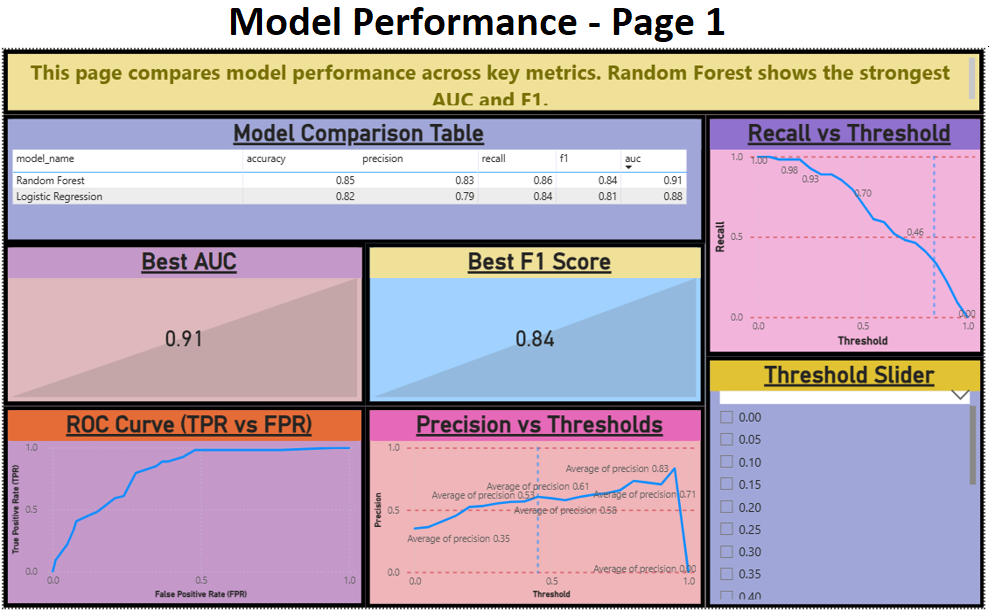

What the dashboard file says about the page in this screenshot:
{"tool":"powerbi","page":{"name":"Model Performance","canvas":[1280,720],"ordinal":0},"visuals":[{"type":"tableEx","title":"Model Comparison Table","fields":{"Values":["metrics_diabetes.model_name","metrics_diabetes.accuracy","metrics_diabetes.precision","metrics_diabetes.recall","metrics_diabetes.f1","metrics_diabetes.auc"]},"box":[0,83.7,916.6,166],"z":0},{"type":"kpi","title":"Best AUC","fields":{"Indicator":["Max(metrics_diabetes.auc)"],"TrendLine":["metrics_diabetes.auc"]},"box":[0,249.7,473.4,209.9],"z":1000},{"type":"kpi","title":"Best F1 Score","fields":{"Indicator":["Max(metrics_diabetes.f1)"],"TrendLine":["metrics_diabetes.f1"]},"box":[473.4,249.7,443.2,209.9],"z":2000},{"type":"textbox","box":[0,0,1280.3,83.7],"z":3000},{"type":"lineChart","title":"Precision vs Thresholds","fields":{"Category":["threshold_diabetes.threshold"],"Y":["Avg(threshold_diabetes.precision)"]},"box":[473.4,459.7,443.2,260.7],"z":4000},{"type":"lineChart","title":"Recall vs Threshold","fields":{"Category":["threshold_diabetes.threshold"],"Y":["Avg(threshold_diabetes.recall)"]},"box":[916.6,83.7,363.6,311.5],"z":5000},{"type":"slicer","title":"Threshold Slider","fields":{"Values":["threshold_diabetes.threshold"]},"box":[916.6,395.2,363.6,325.2],"z":6000},{"type":"lineChart","title":"ROC Curve (TPR vs FPR)","fields":{"Category":["threshold_diabetes.fpr"],"Y":["Avg(threshold_diabetes.tpr)"]},"box":[0,460,473,260],"z":7000}]}

Visuals, with their boxes in screenshot pixels (x1, y1, x2, y2):
"Model Comparison Table" tableEx: 3:115:701:242
"Best AUC" kpi: 3:242:363:402
"Best F1 Score" kpi: 363:242:701:402
textbox: 3:52:978:115
"Precision vs Thresholds" lineChart: 363:402:701:600
"Recall vs Threshold" lineChart: 701:115:978:353
"Threshold Slider" slicer: 701:353:978:600
"ROC Curve (TPR vs FPR)" lineChart: 3:402:363:600
